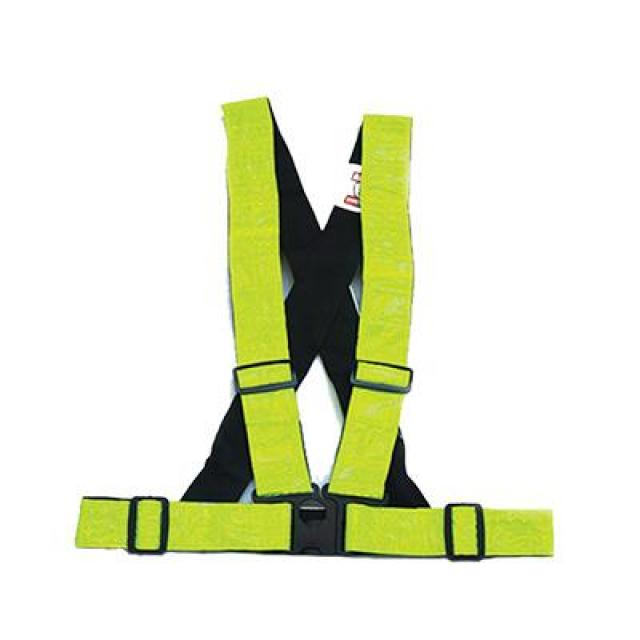Reflective-Jacket: (24, 77, 594, 586)
